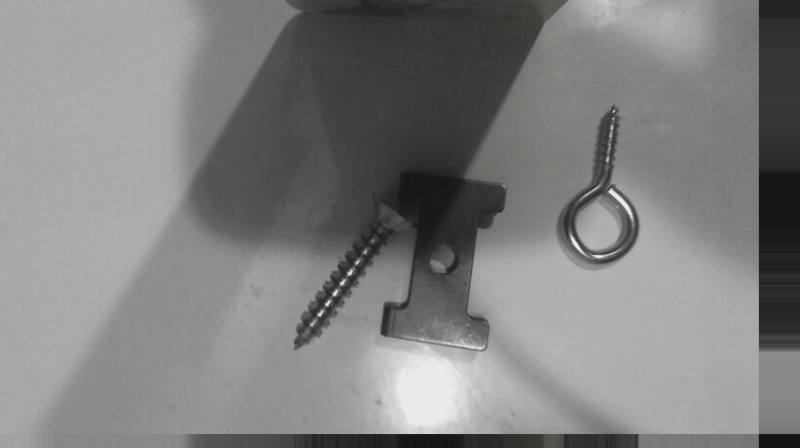O001: (559, 100, 647, 268)
O002: (378, 169, 508, 354)
S001: (288, 186, 414, 351)
